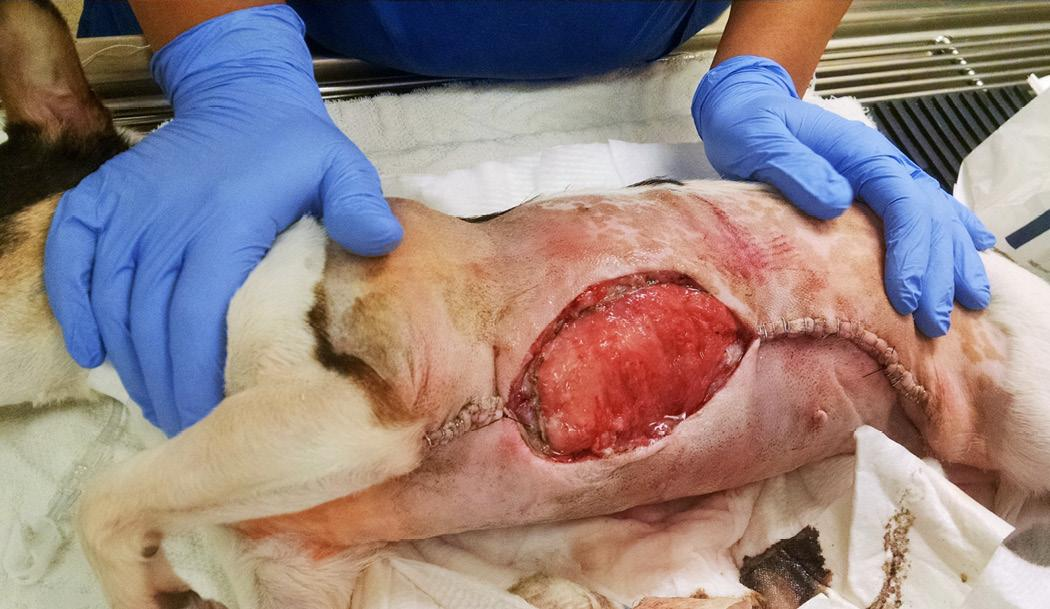cut: (507, 249, 736, 499)
